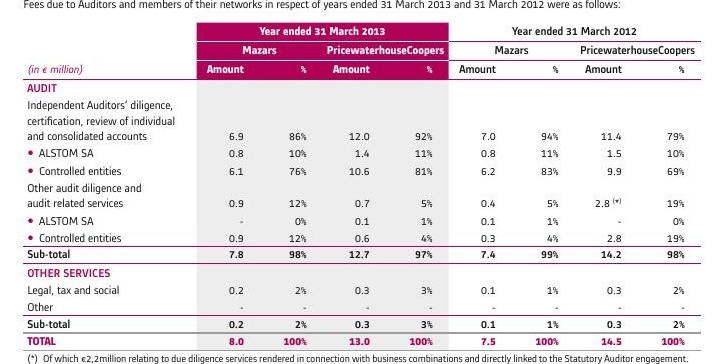table: (0, 0, 723, 364)
